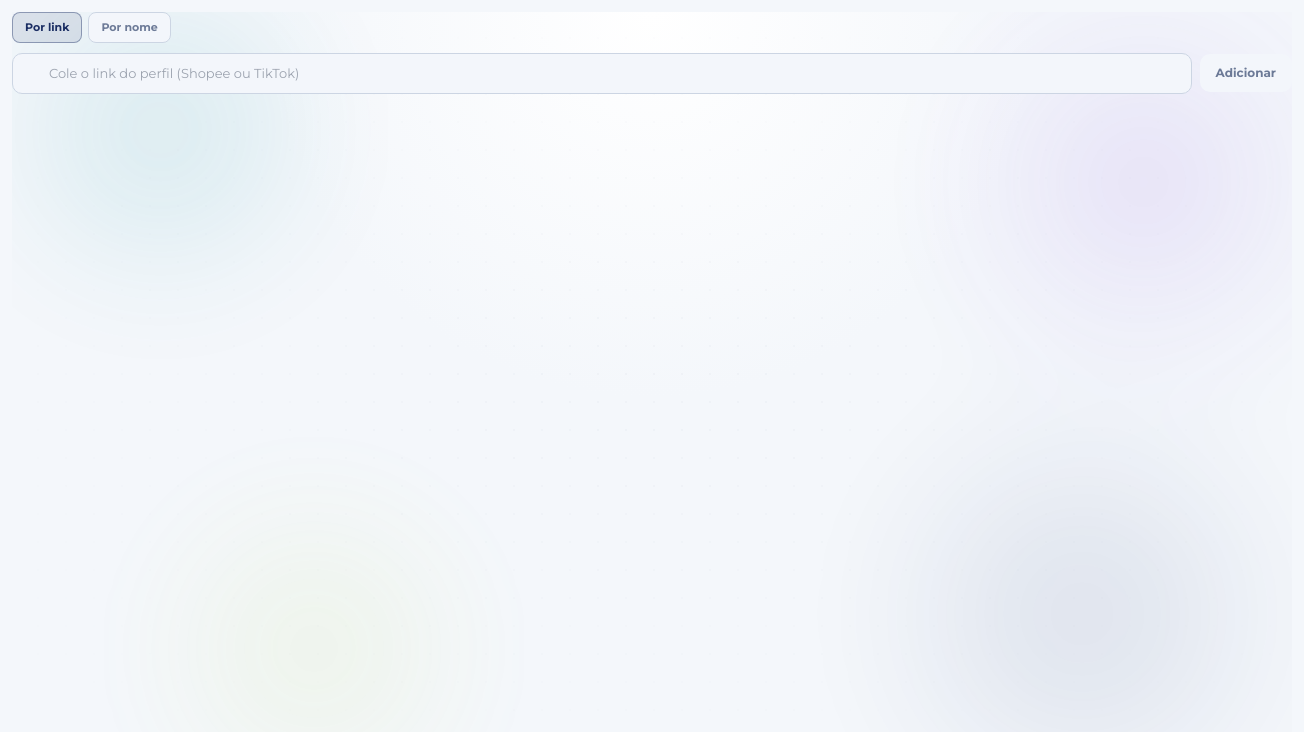
AddSellerForm › switches to nome mode showing platform selector and updated placeholder
The width and height of the screenshot is (1304, 732).
Step 1. Click the button "Por nome" → (130, 27), box [88,12,171,42]
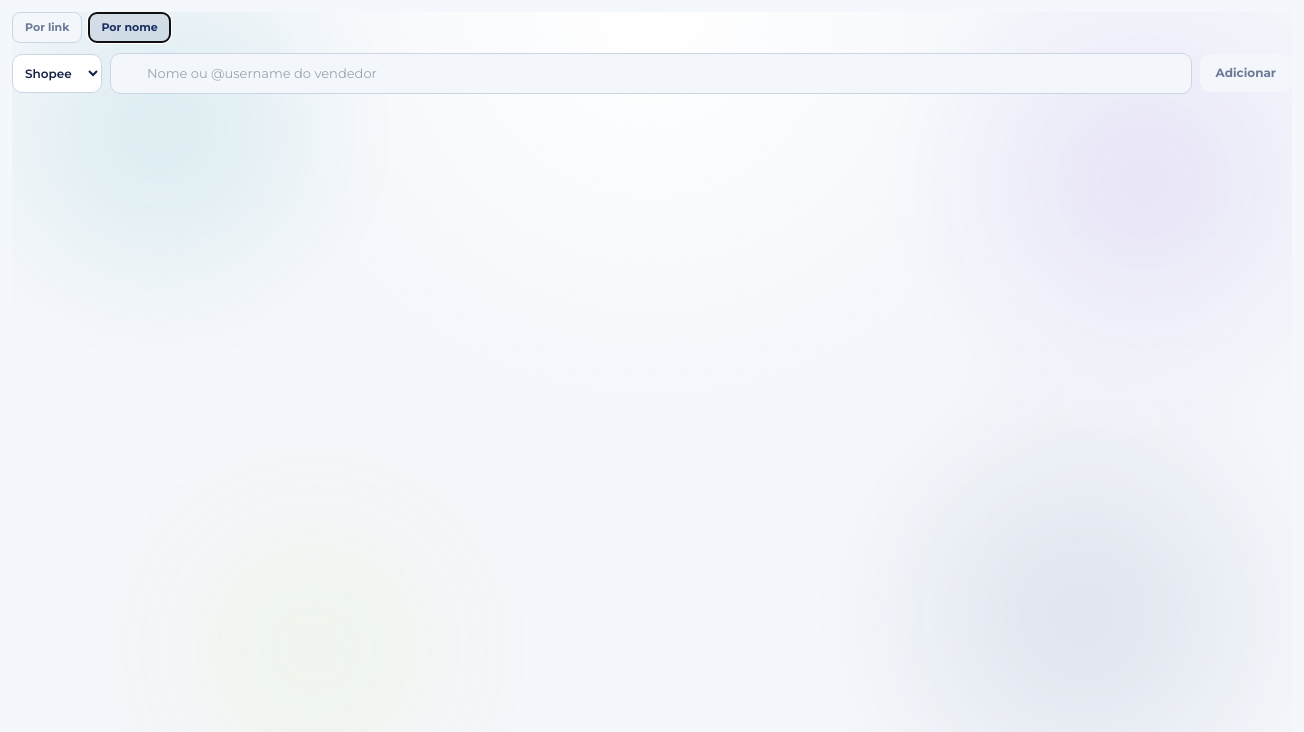
Now the field with placeholder "Nome ou @username do vendedor" is shown, box [110,52,1192,94]
Now the dropdown is shown, box [12,54,102,93]
